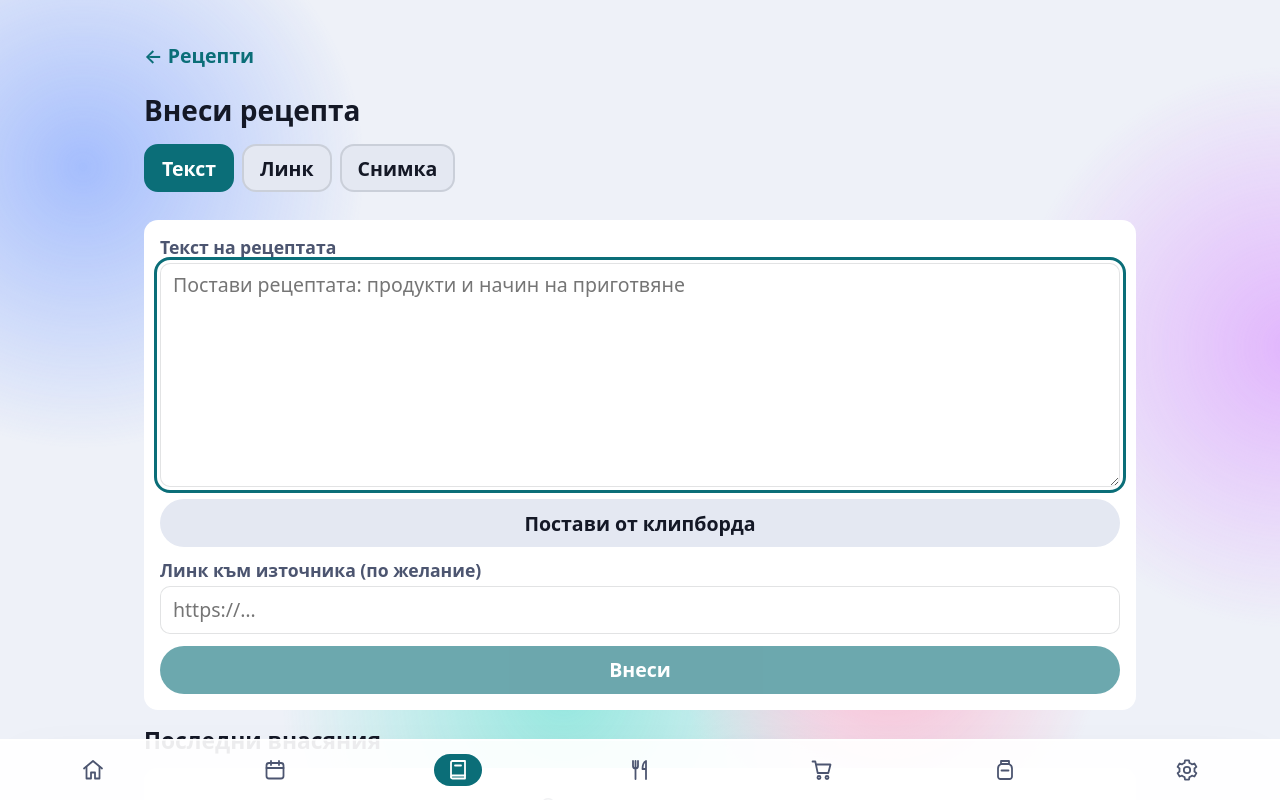
Test: ImportScreen › Текст → Линк → Текст пази поставения текст и линка към източника
Click the button "Постави от клипборда".
click(640, 523)  # box [160,499,1120,547]
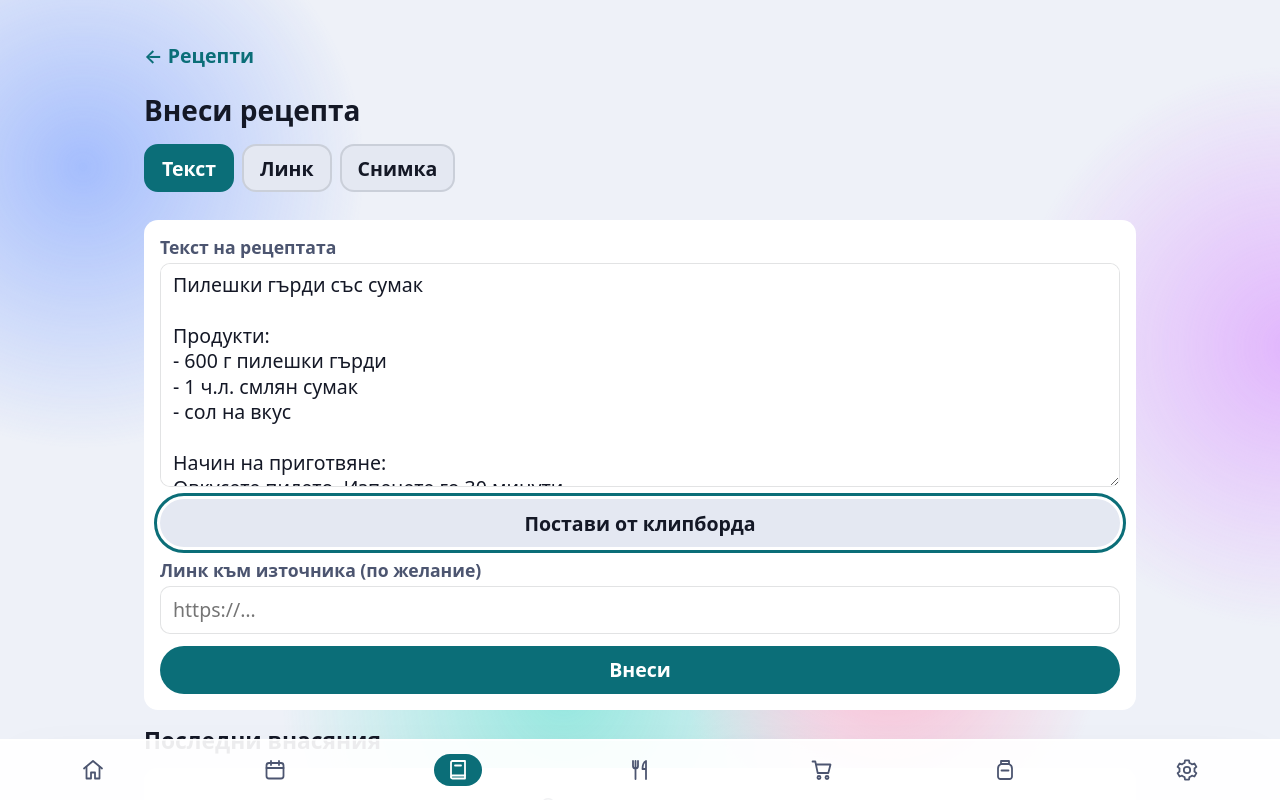
Type "https://blog.example/pile-sumak" into the field labelled "Линк към източника (по желание)".
click(640, 610); type("https://blog.example/pile-sumak")  # box [160,586,1120,634]
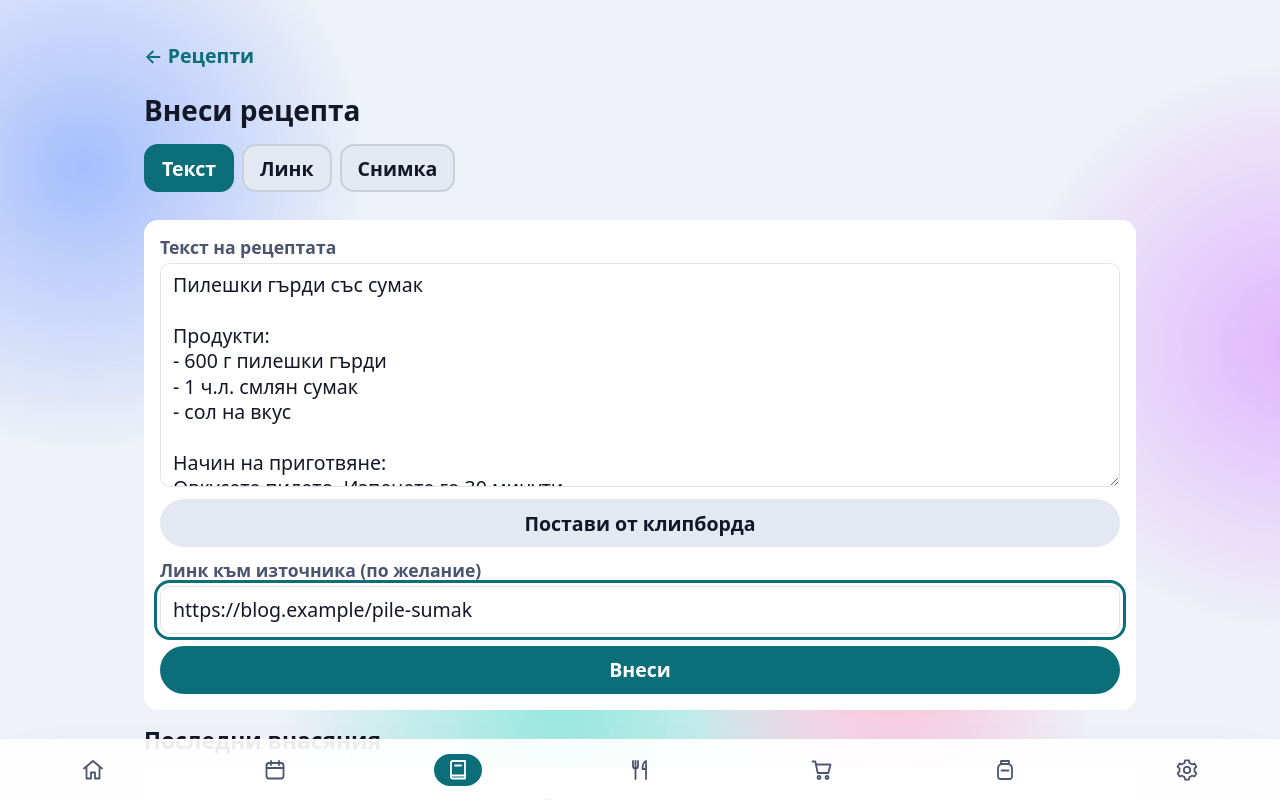
Click the tab "Линк".
click(287, 168)  # box [242,144,332,192]
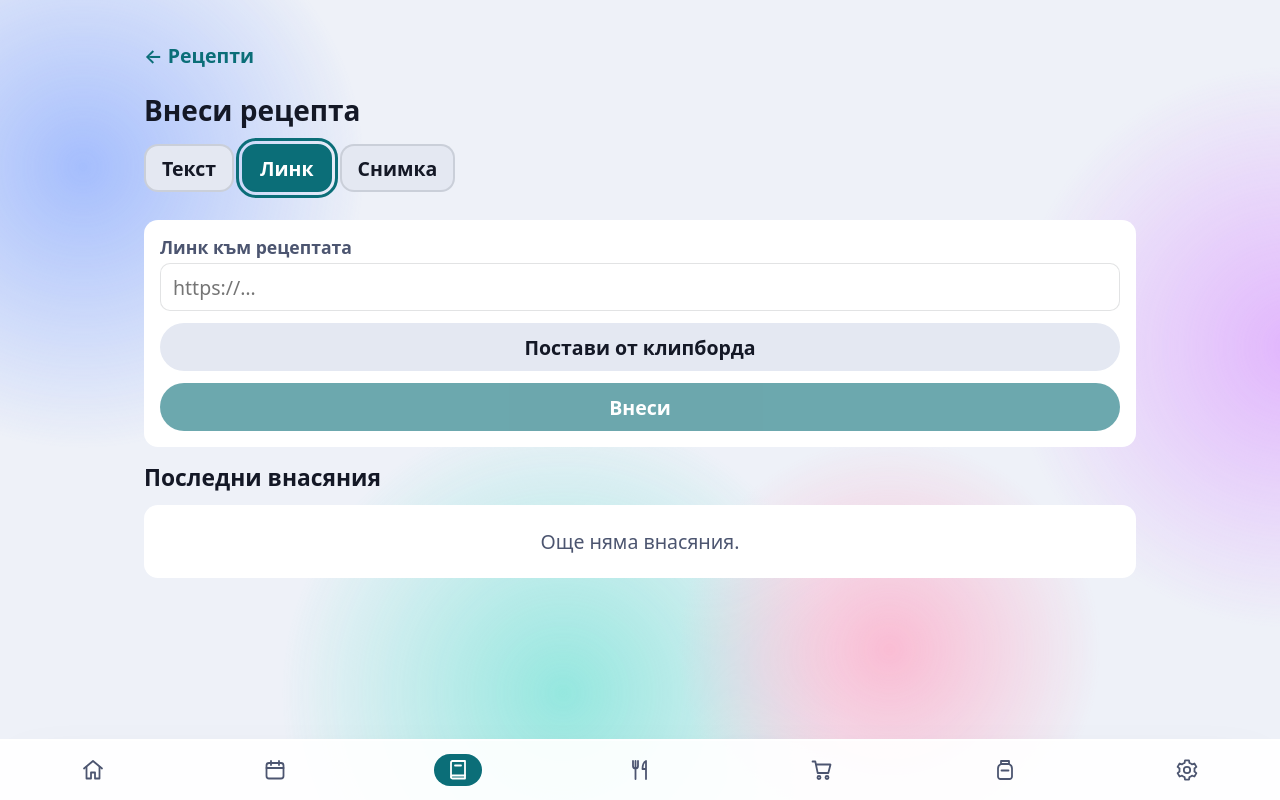
Click the tab "Текст".
click(189, 168)  # box [144,144,234,192]
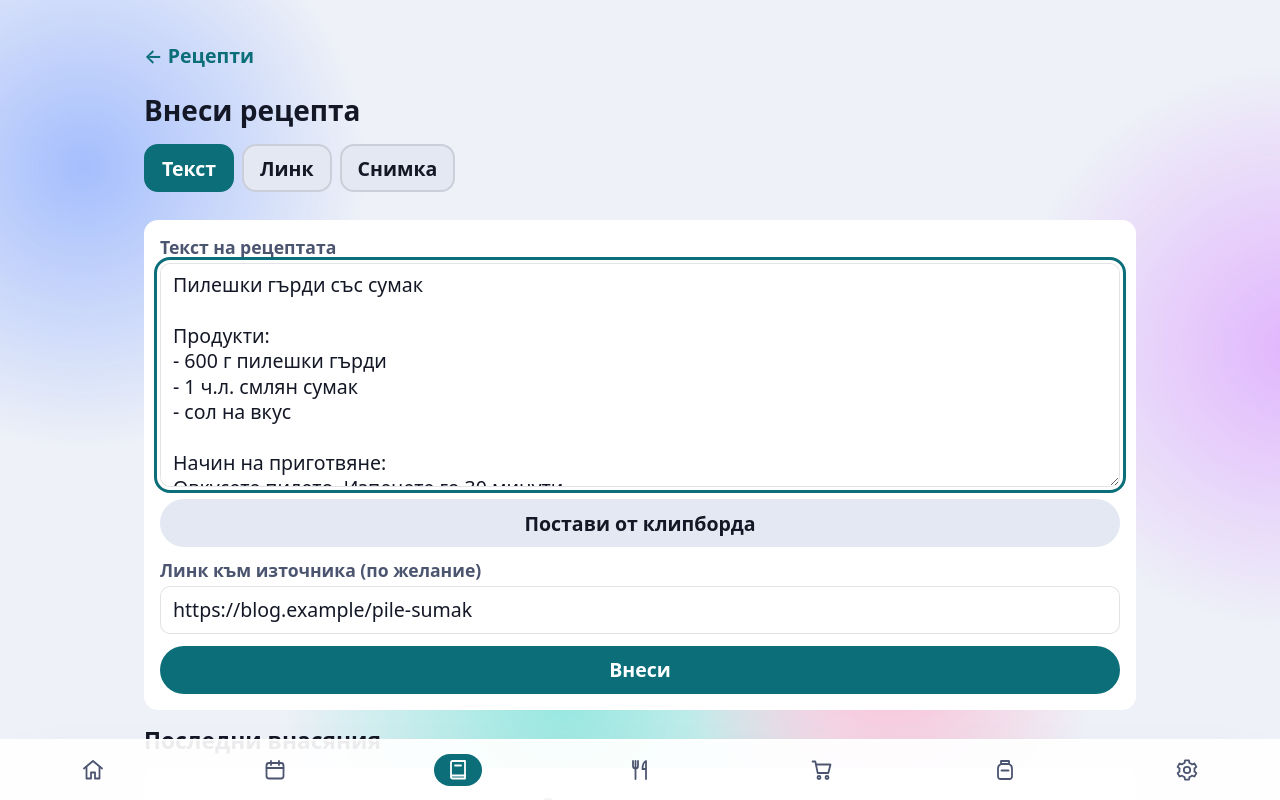
Expected: the field labelled "Линк към източника (по желание)" holds "https://blog.example/pile-sumak", [160,586,1120,634]
